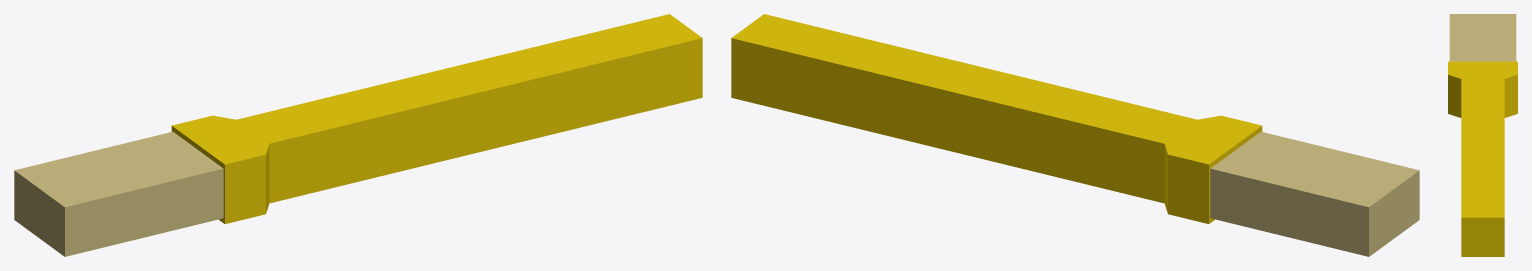
File: paintbrush3.fbx
3 views of the same model, side by side, from view 1: azimuth 30°, elevation 25°; view 2: azimuth 150°, elevation 25°; view 3: azimuth 270°, elevation 25° (orthographic). The views are drawn at different scales.
Visible parts, largest first — view 1: Cube; view 2: Cube; view 3: Cube.
Boxes of the visible parts, x1=… form: Cube: x1=14, y1=14, x2=702, y2=256; Cube: x1=731, y1=14, x2=1419, y2=256; Cube: x1=1448, y1=14, x2=1517, y2=256.
Size of the model in its own units: 93.65 by 8.26 by 13.36.
